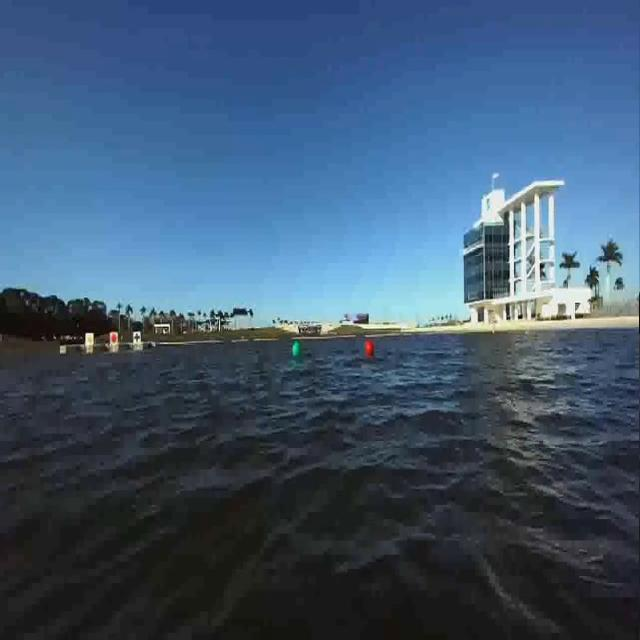green-column-buoy: (291, 341, 302, 359)
red-buoy: (364, 339, 375, 358)
